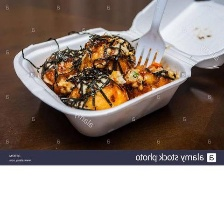foam_box: (9, 0, 224, 141)
